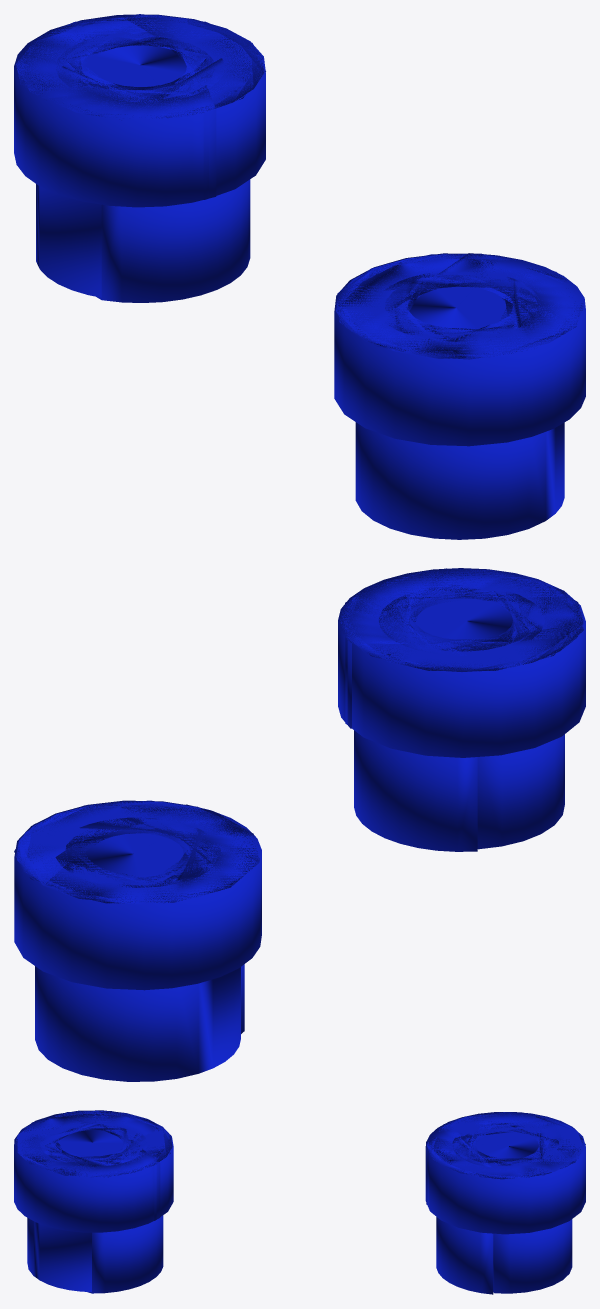
File: tuyeau_element_000061.obj
The picture shows the model from 3 angles, top to bottom: view 1: azimuth 30°, elevation 25°; view 2: azimuth 150°, elevation 25°; view 3: azimuth 270°, elevation 25°; orthographic projection. The views are drawn at different scales.
Parts seen in each view (by area): view 1: tuyeau1_Cube.014, tuyeau2_Cube.017; view 2: tuyeau2_Cube.017, tuyeau1_Cube.014; view 3: tuyeau1_Cube.014, tuyeau2_Cube.017.
Part boxes in pixels (x1,y1,x2,y2): tuyeau1_Cube.014: (14, 14, 265, 302); tuyeau2_Cube.017: (334, 253, 585, 539); tuyeau2_Cube.017: (338, 568, 585, 851); tuyeau1_Cube.014: (14, 800, 261, 1081); tuyeau1_Cube.014: (425, 1112, 585, 1294); tuyeau2_Cube.017: (14, 1110, 173, 1293).
Bounding box in the file's own units: 3600 × 2917 × 12594.
